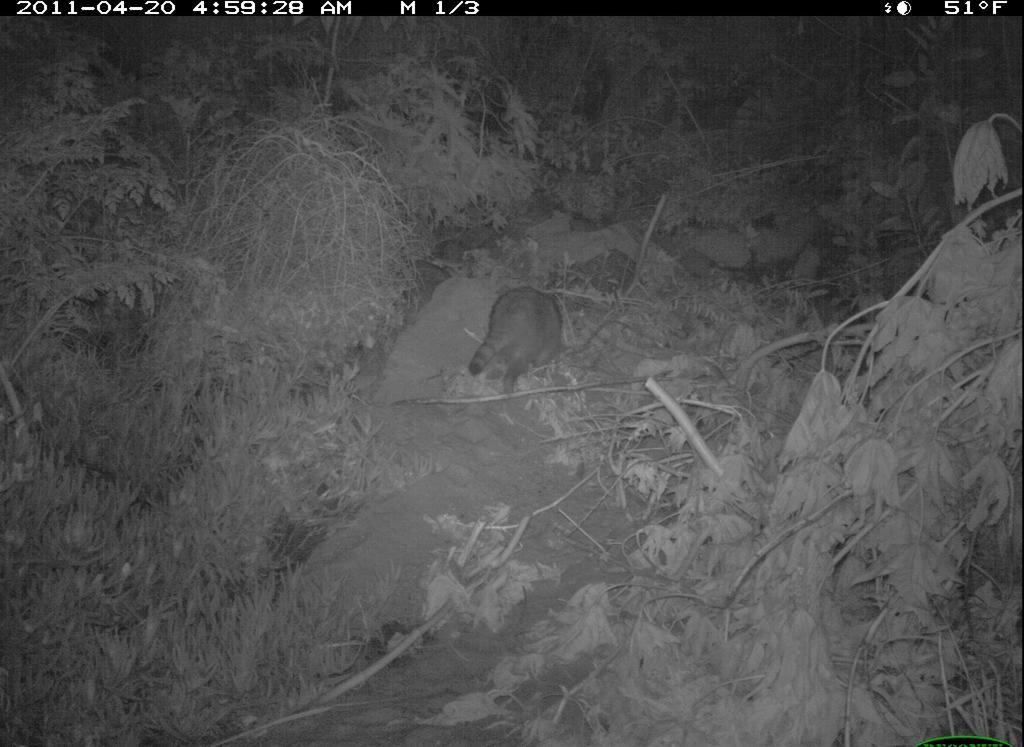raccoon: (465, 281, 574, 410)
